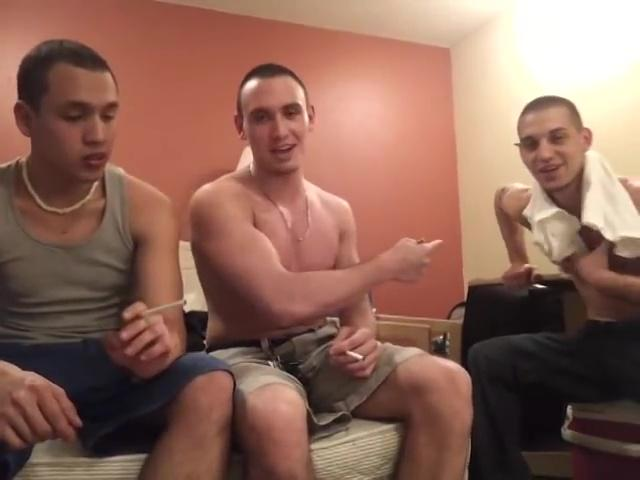cigarette: (138, 300, 189, 318), (342, 348, 369, 363)
